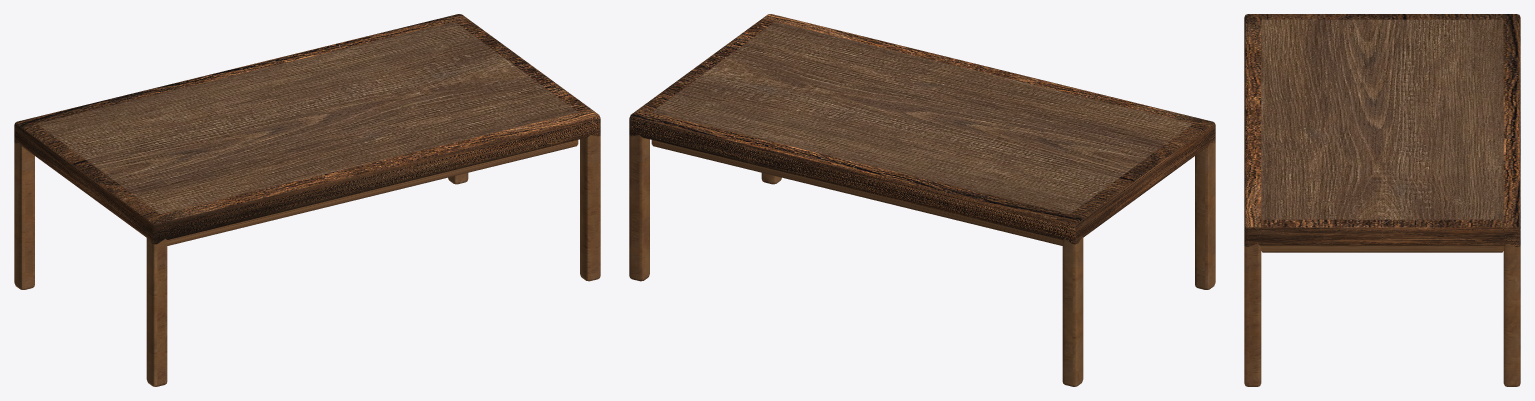
Rendered from Table.fbx.
3 views of the same model, side by side, from view 1: azimuth 30°, elevation 25°; view 2: azimuth 150°, elevation 25°; view 3: azimuth 270°, elevation 25° (orthographic). The views are drawn at different scales.
Visible parts, largest first — view 1: pCube1; view 2: pCube1; view 3: pCube1.
Boxes of the visible parts, box(x1,y1,x2,y2) form: pCube1: box(14, 14, 600, 386); pCube1: box(629, 14, 1215, 386); pCube1: box(1244, 14, 1520, 386).
Size of the model in its own units: 16.91 by 5.95 by 9.21.
Materials: 4 (3 with a texture image).
